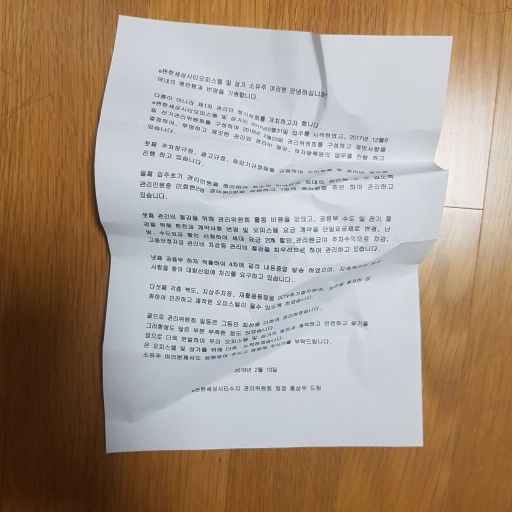Paper_3: (89, 9, 462, 464)
